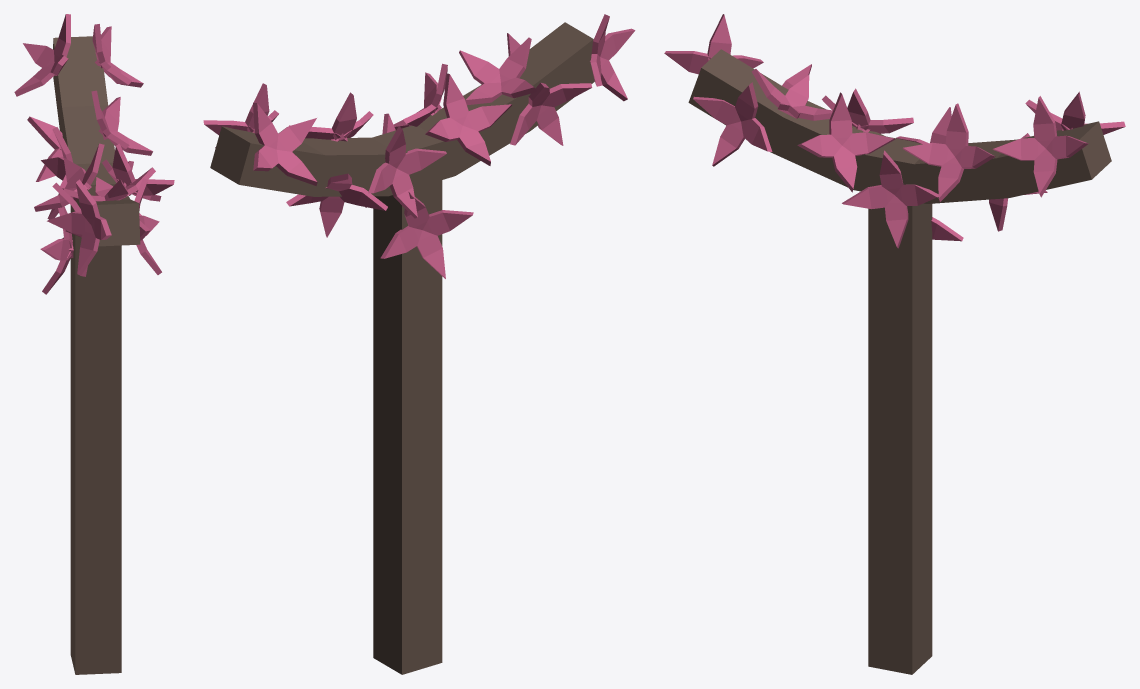
File: flower_slope.glb
The picture shows the model from 3 angles, left to right: view 1: azimuth 30°, elevation 25°; view 2: azimuth 150°, elevation 25°; view 3: azimuth 270°, elevation 25°; orthographic projection. The views are drawn at different scales.
Parts seen in each view (by area): view 1: Crucifiction Pole.055; view 2: Crucifiction Pole.055; view 3: Crucifiction Pole.055.
Boxes of the visible parts, box(x1,y1,x2,y2) form: Crucifiction Pole.055: box(14, 14, 174, 674); Crucifiction Pole.055: box(203, 14, 635, 674); Crucifiction Pole.055: box(664, 14, 1125, 674).
Bounding box in the file's own units: 0.0574 × 0.1366 × 0.0953.
